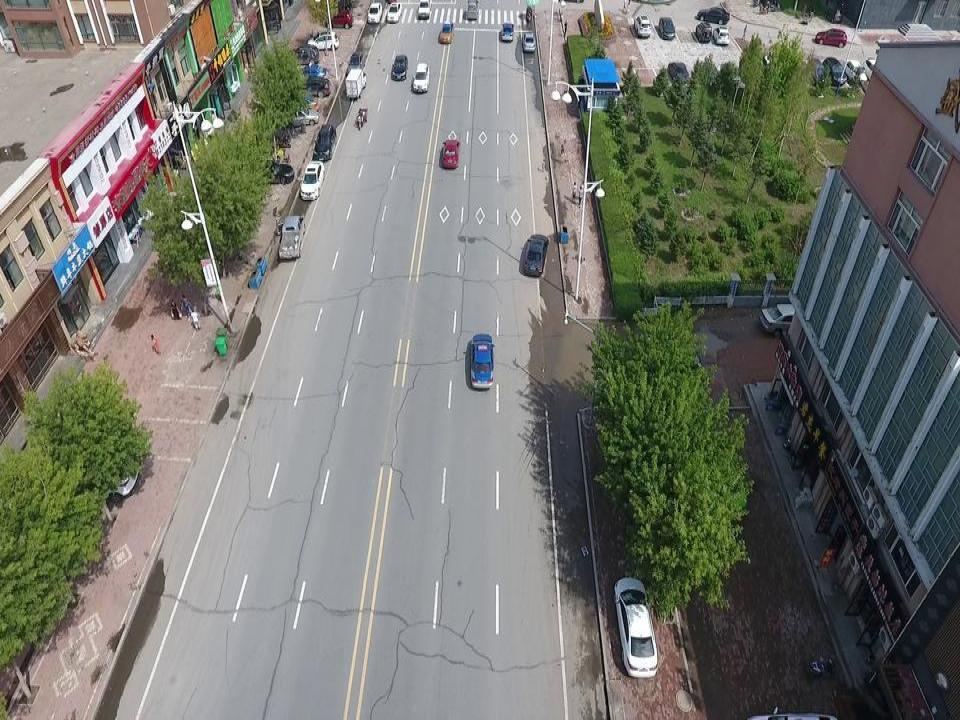car: (616, 580, 660, 676), (759, 301, 810, 335), (469, 333, 496, 388), (524, 232, 550, 275), (252, 159, 294, 185), (300, 161, 324, 200), (280, 108, 319, 127), (822, 55, 846, 85), (295, 78, 331, 98), (284, 44, 319, 64), (282, 93, 318, 111), (696, 7, 731, 25), (324, 8, 354, 29), (293, 64, 329, 81), (843, 60, 867, 85), (815, 29, 846, 48), (307, 33, 338, 51), (442, 139, 460, 169), (412, 64, 430, 93), (699, 60, 718, 85), (670, 62, 689, 86), (347, 51, 365, 76), (391, 55, 408, 81), (437, 19, 454, 44), (711, 26, 732, 46), (657, 16, 675, 39), (694, 20, 711, 44), (822, 4, 843, 23), (634, 15, 652, 37), (864, 57, 879, 79), (366, 3, 383, 22), (387, 0, 401, 21), (523, 32, 536, 53), (501, 22, 514, 42)
truck: (279, 214, 304, 258), (346, 67, 367, 100), (417, 0, 432, 17)
van: (314, 125, 336, 160), (465, 0, 480, 19)
